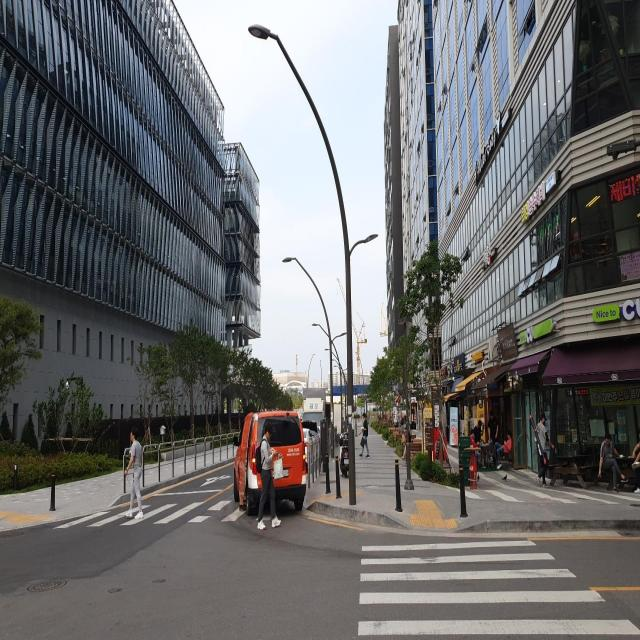횡단보도: (356, 537, 640, 639), (62, 496, 284, 532)
